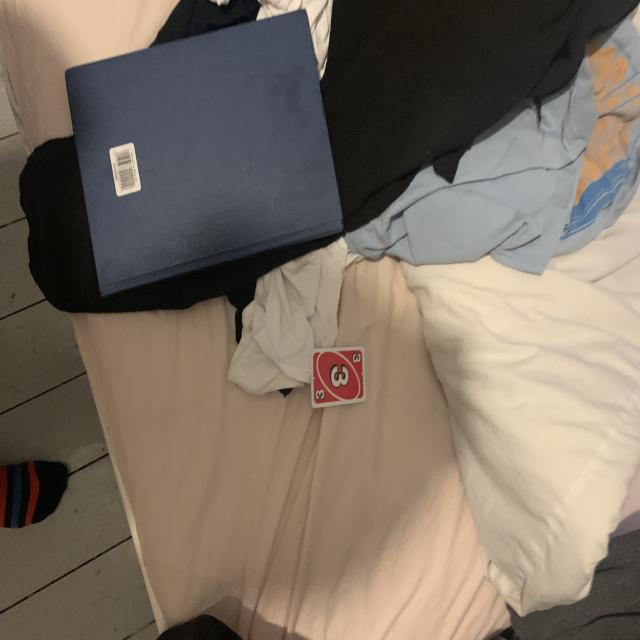lred-3: (350, 350, 362, 365)
